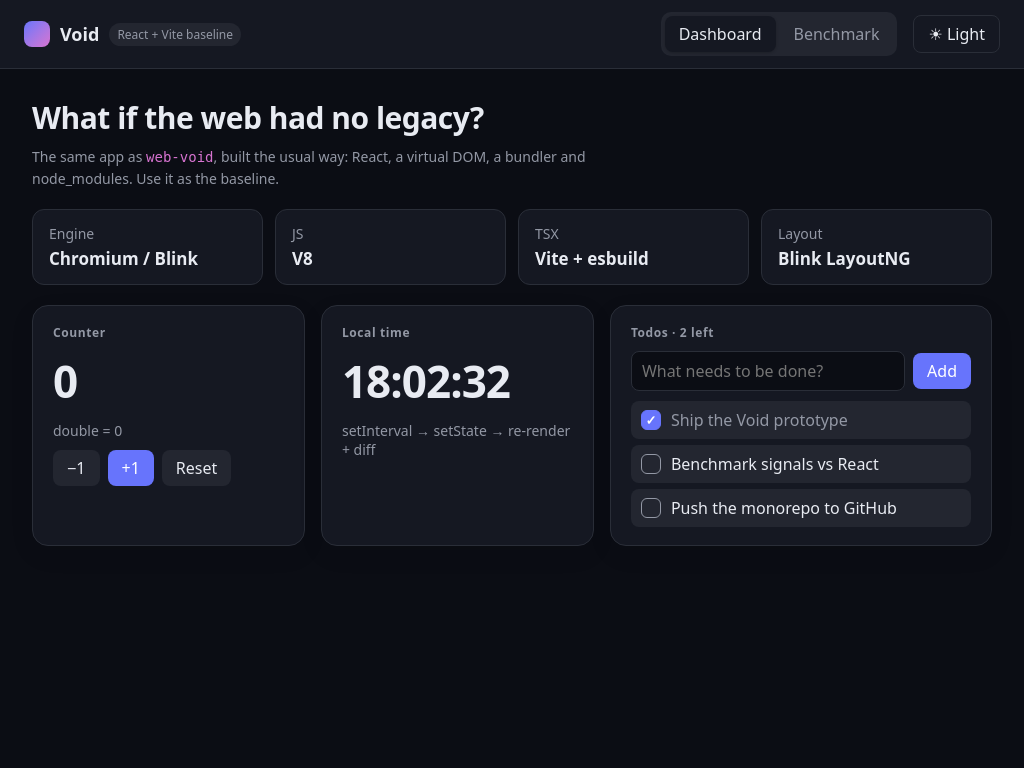
Test case: web-react baseline › adds and toggles todos
Type "Write tests" into the field with placeholder "What needs to be done?" at [768, 371], box [631, 351, 905, 391]
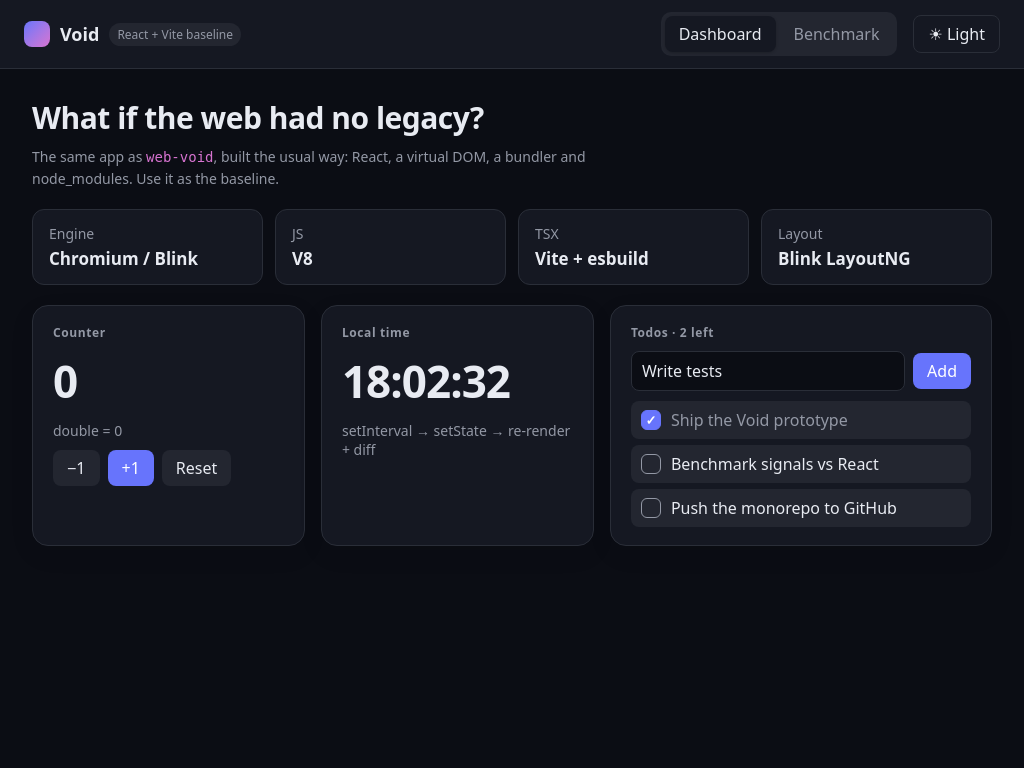
Press Enter in the field with placeholder "What needs to be done?", box [631, 351, 905, 391]
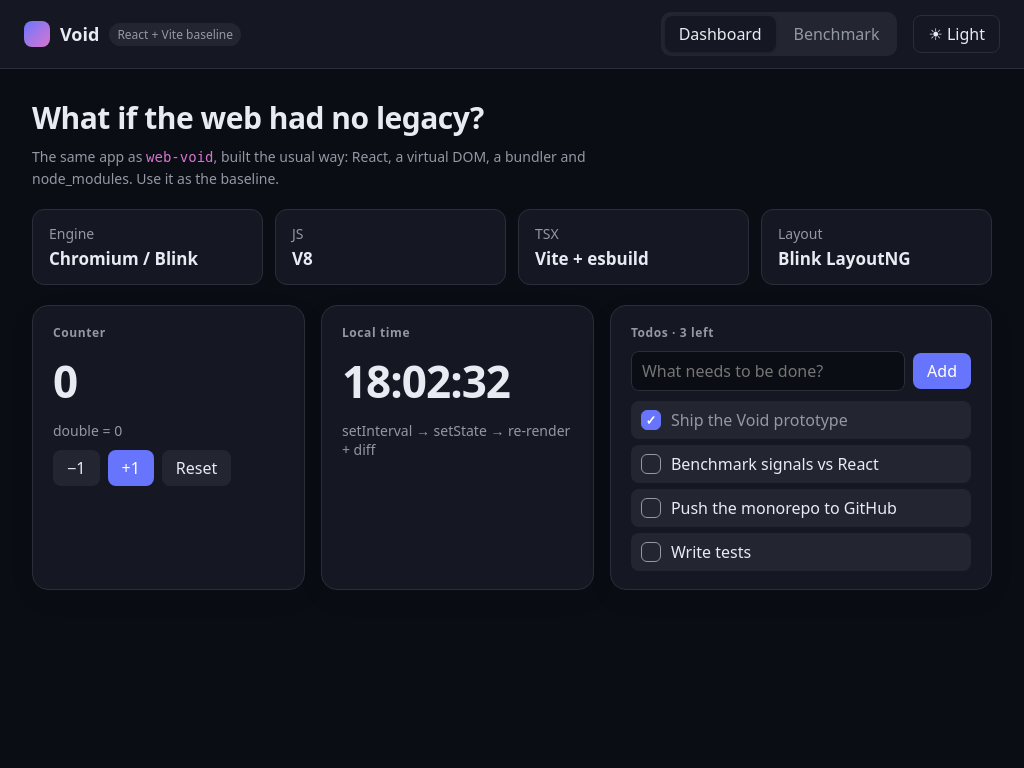
expect the text "Write tests" is shown: met
expect the text "Todos · 3 left" is shown: met, box [631, 324, 714, 341]
expect the field with placeholder "What needs to be done?" is empty: met, box [631, 351, 905, 391]
Click the text "Write tests" at [711, 552], box [671, 541, 751, 563]
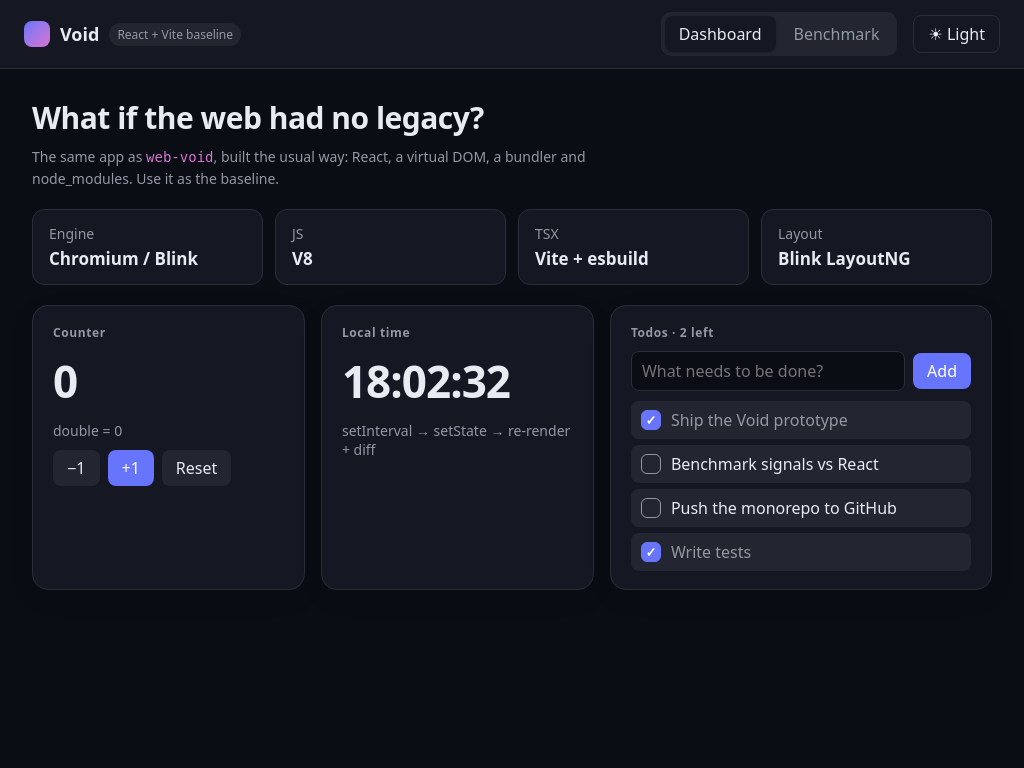
expect the text "Todos · 2 left" is shown: met, box [631, 324, 714, 341]
